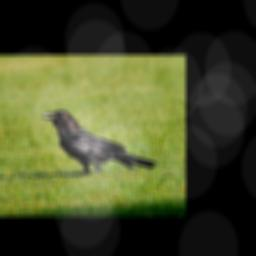Crow: (38, 109, 159, 177)
